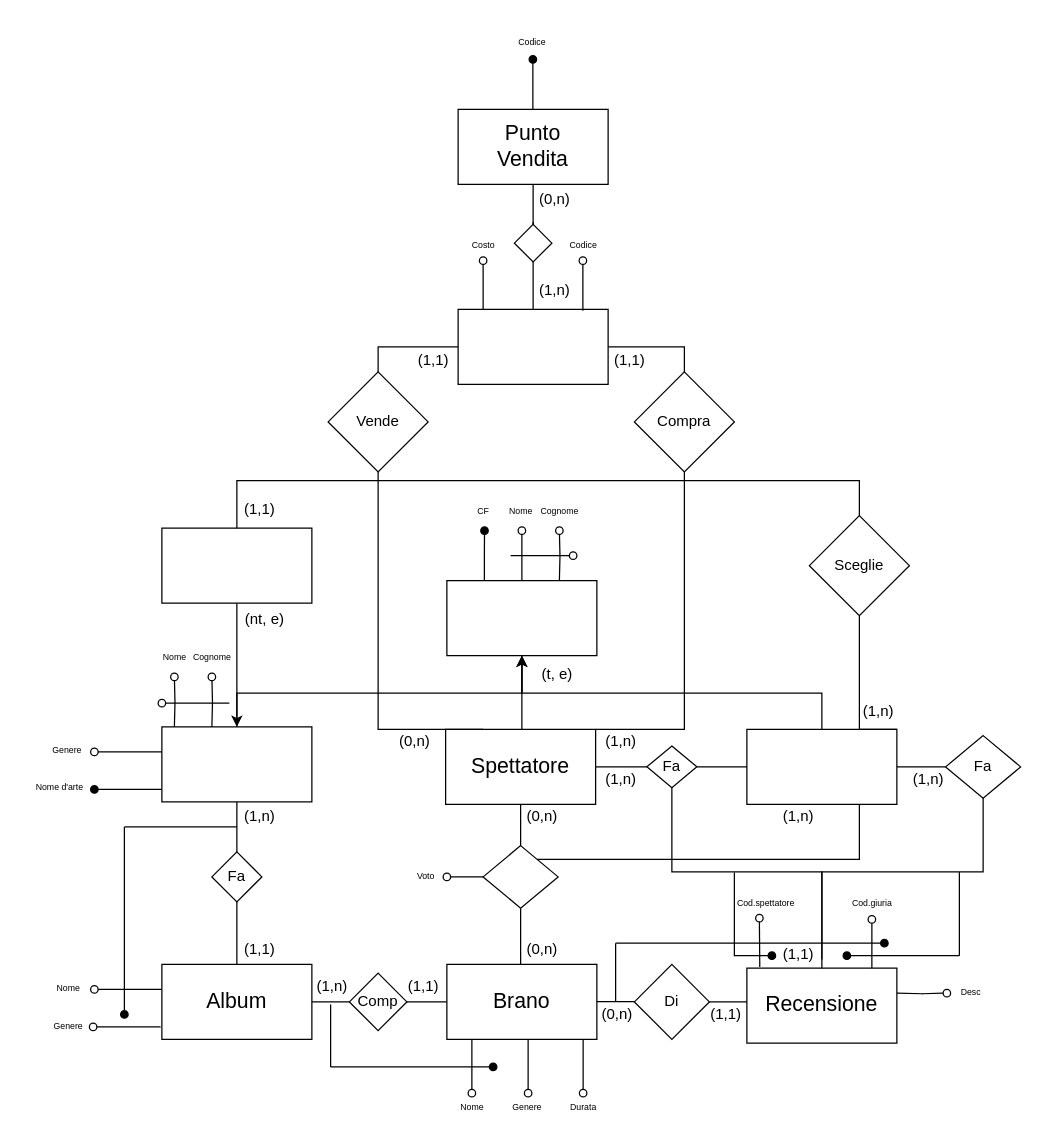
The diagram is 1043 pixels wide and 1145 high, and some of its shapes have lost their labels. Each missing label, with the centre of its shape:
Artista: (236,764)
Biglietto: (532,346)
Giuria: (821,766)
In: (532,242)
Persona: (521,617)
Valuta: (520,876)
Vincitore: (236,565)
